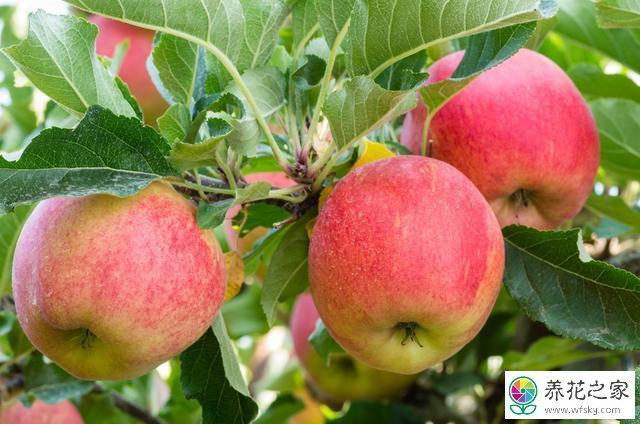apple: (325, 63, 588, 337), (301, 155, 502, 392), (10, 184, 229, 383), (419, 46, 597, 219)
